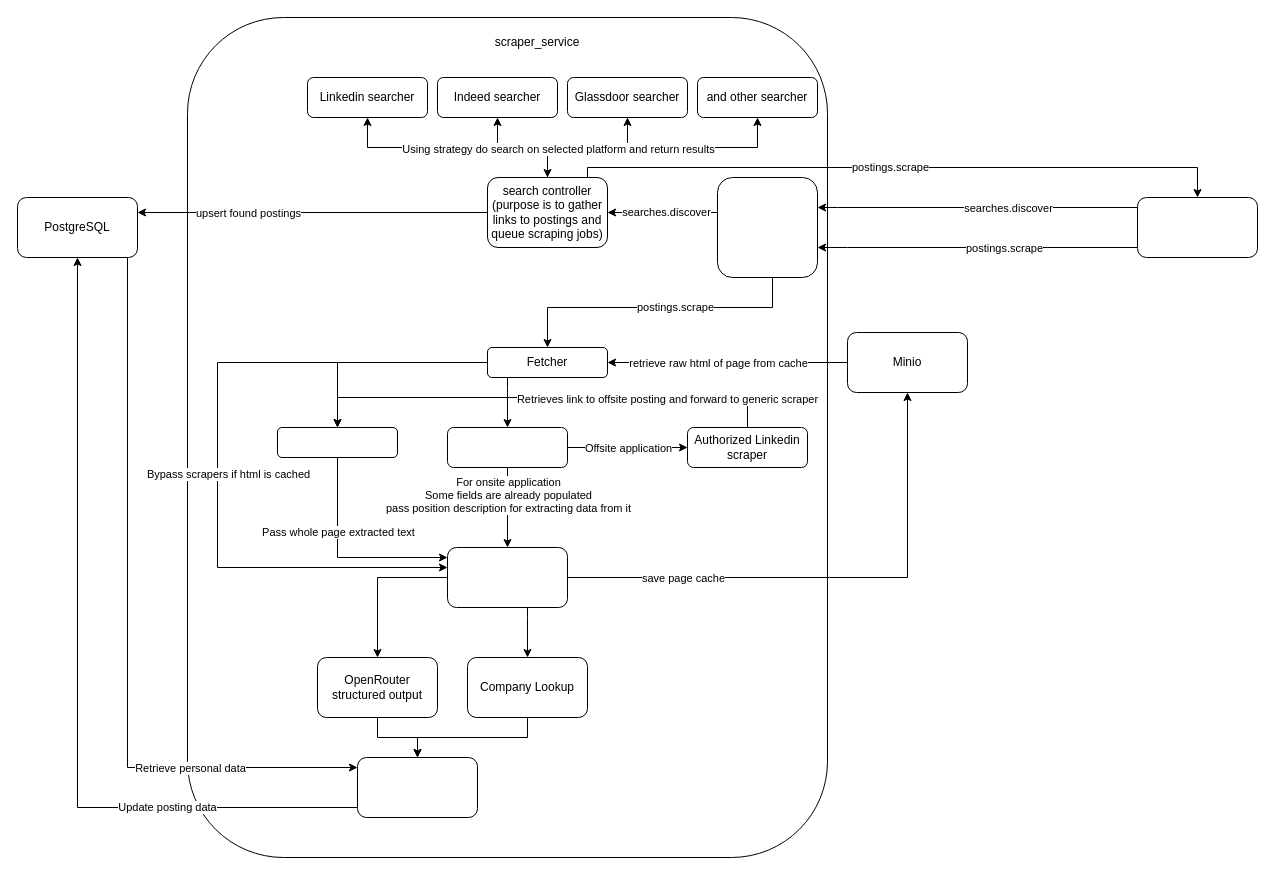
Image size: 1275x875. Some labels were removed from this diagram. Each missing label, with the box of its shape:
Generic scraper: (276, 426, 398, 458)
Kafka: (1136, 196, 1258, 258)
Postprocessor controller: (446, 546, 568, 608)
semaphore for backpreassure control: (716, 176, 818, 278)
Summary generation and scoring: (356, 756, 478, 818)
Unauthorized Linkedin scraper: (446, 426, 568, 468)
